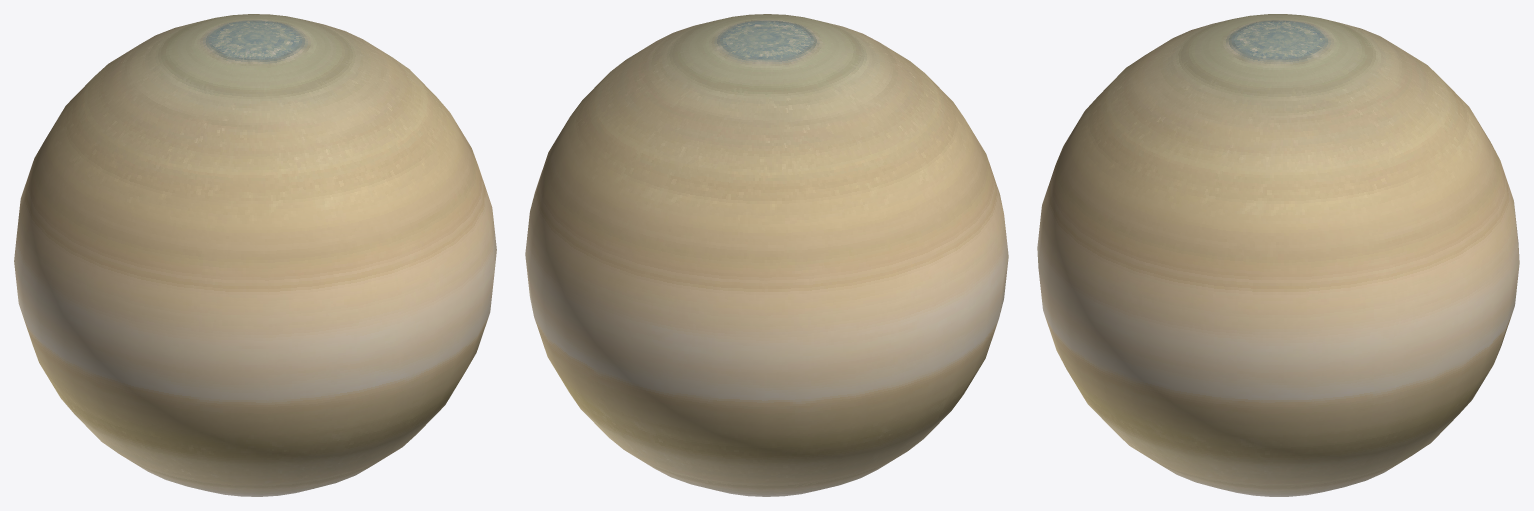
File: saturn.gltf
The picture shows the model from 3 angles, left to right: view 1: azimuth 30°, elevation 25°; view 2: azimuth 150°, elevation 25°; view 3: azimuth 270°, elevation 25°; orthographic projection.
Visible parts, largest first — view 1: 07_saturn; view 2: 07_saturn; view 3: 07_saturn.
Part boxes in pixels (<box>): 07_saturn: <box>14,14,496,496</box>; 07_saturn: <box>525,14,1008,496</box>; 07_saturn: <box>1037,14,1519,496</box>.
Bounding box in the file's own units: 120 × 121 × 120.
1 material, 1 textured.
